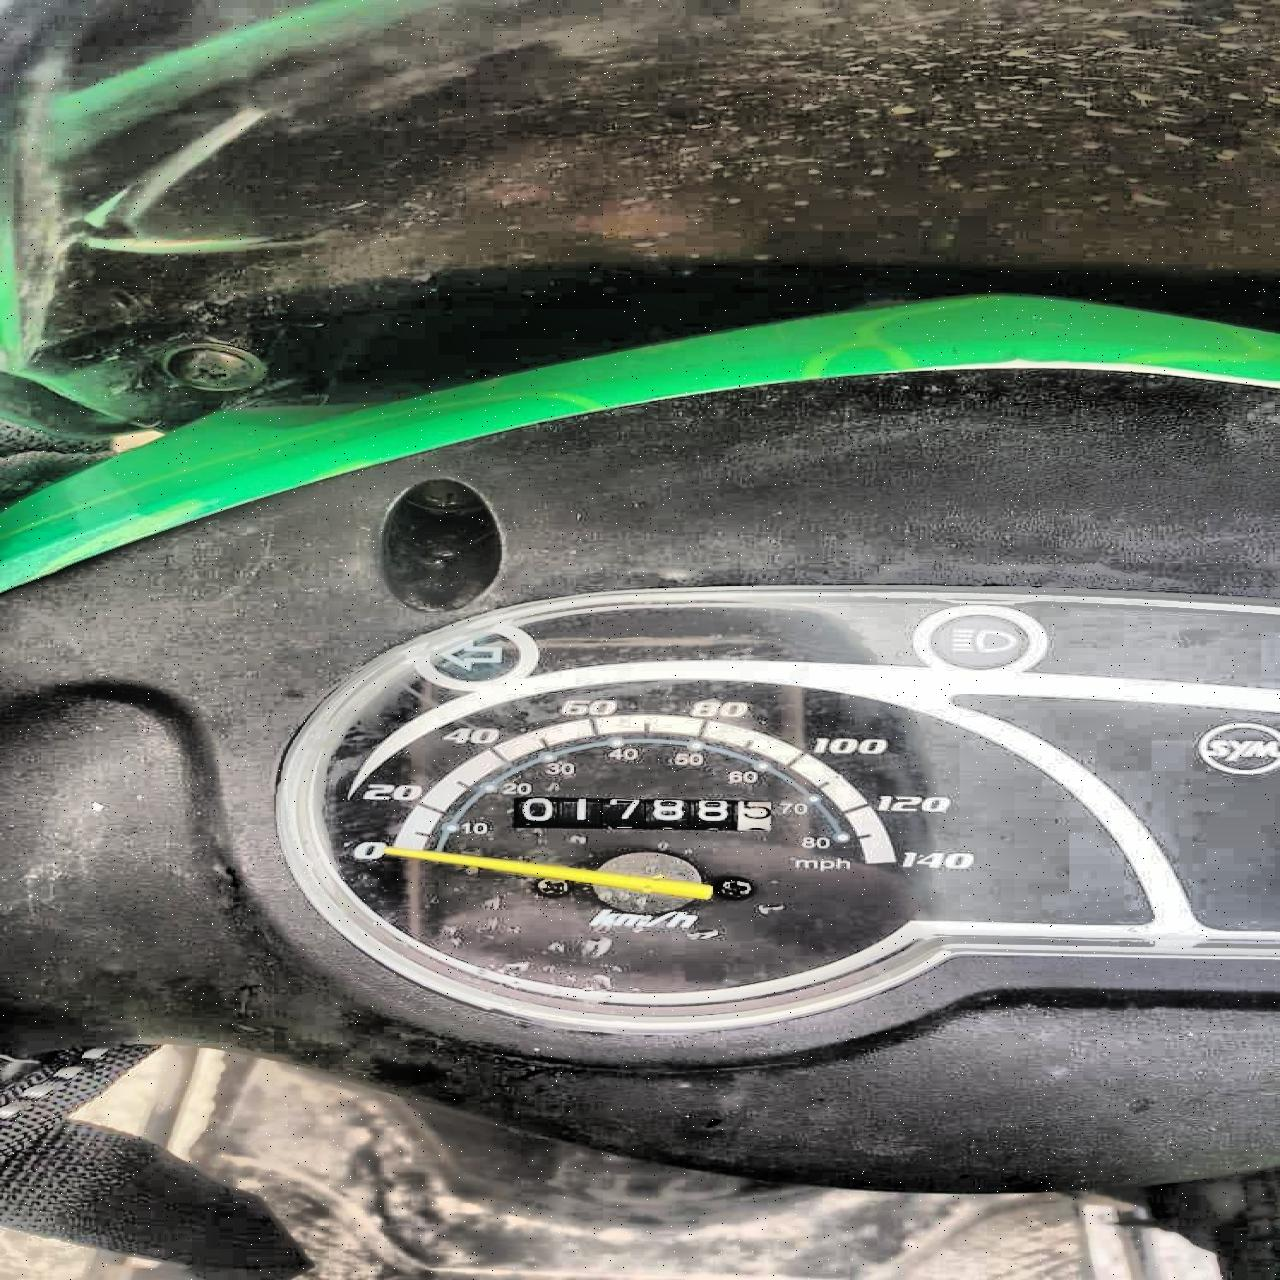0: (520, 796, 552, 821)
1: (576, 797, 586, 819)
5: (740, 798, 771, 818)
7: (608, 797, 639, 818)
8: (695, 797, 727, 821), (652, 797, 683, 819)
odometer: (511, 795, 772, 832)
